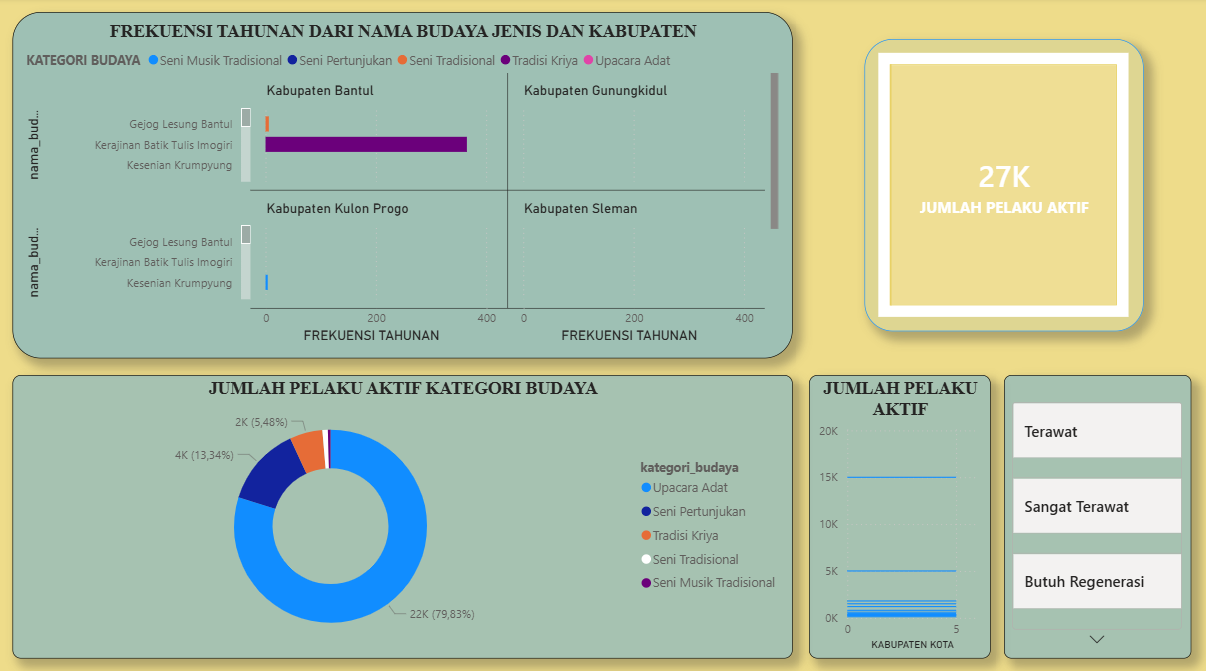

Layout of this report page (visuals, bound fields, positions):
{"tool":"powerbi","page":{"name":"DATA KEBUDAYAAN DIY","canvas":[1280,720],"ordinal":0},"visuals":[{"type":"cardVisual","fields":{"Data":["Sum(budaya_aktif_diy.jumlah_pelaku_aktif)","Sum(budaya_aktif_diy.jumlah_pelaku_aktif)"]},"box":[917.8,44.5,295.9,310.2],"z":0},{"type":"clusteredBarChart","title":"JUMLAH PELAKU AKTIF","fields":{"Y":["CountNonNull(wilayah_diy.kabupaten_kota)"],"Category":["budaya_aktif_diy.jumlah_pelaku_aktif"]},"box":[858.9,400.8,192.5,300.6],"z":1000},{"type":"donutChart","title":"JUMLAH PELAKU AKTIF KATEGORI BUDAYA","fields":{"Category":["budaya_aktif_diy.kategori_budaya"],"Y":["Sum(budaya_aktif_diy.jumlah_pelaku_aktif)"]},"box":[14.3,400.8,827.1,300.6],"z":2000},{"type":"cardVisual","fields":{"Rows":["budaya_aktif_diy.status_kelestarian"]},"box":[1065.7,400.8,198.8,300.6],"z":3000},{"type":"barChart","title":"FREKUENSI TAHUNAN DARI NAMA BUDAYA JENIS DAN KABUPATEN","fields":{"Category":["budaya_aktif_diy.nama_budaya"],"Series":["budaya_aktif_diy.kategori_budaya"],"Y":["Sum(budaya_aktif_diy.frekuensi_tahunan)"],"Rows":["wilayah_diy.kabupaten_kota"]},"box":[14.3,15.9,827.1,367.4],"z":4000}]}

Visuals, with their boxes in screenshot pixels (x1, y1, x2, y2), scaled from the page's 1280x720 canvas onto the 1206x671 screenshot:
cardVisual - Sum(budaya_aktif_diy.jumlah_pelaku_aktif) x Sum(budaya_aktif_diy.jumlah_pelaku_aktif): 865,41,1144,331
"JUMLAH PELAKU AKTIF" clusteredBarChart: 809,374,991,654
"JUMLAH PELAKU AKTIF KATEGORI BUDAYA" donutChart: 13,374,793,654
cardVisual - budaya_aktif_diy.status_kelestarian: 1004,374,1191,654
"FREKUENSI TAHUNAN DARI NAMA BUDAYA JENIS DAN KABUPATEN" barChart: 13,15,793,357
